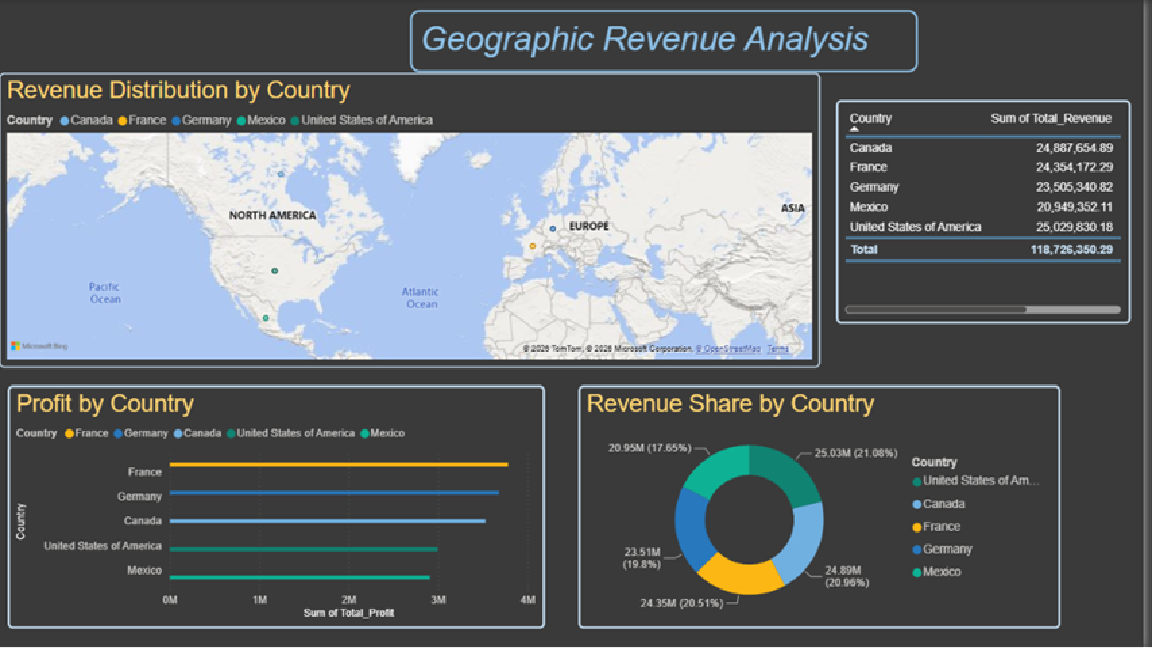

The dashboard page shown, as its layout file describes it:
{"tool":"powerbi","page":{"name":"Geographic Analysis","canvas":[1280,720],"ordinal":1},"visuals":[{"type":"map","title":"Revenue Distribution by Country","fields":{"Category":["revenue_by_country.Country"],"Series":["revenue_by_country.Country"]},"box":[0,80.8,918.1,328.2],"z":0},{"type":"tableEx","fields":{"Values":["revenue_by_country.Country","Sum(revenue_by_country.Total_Revenue)","Sum(revenue_by_country.Profit_Margin_Pct)"]},"box":[936.2,111,329.4,248.5],"z":1000},{"type":"clusteredBarChart","title":"Profit by Country","fields":{"Category":["revenue_by_country.Country"],"Y":["Sum(revenue_by_country.Total_Profit)"],"Series":["revenue_by_country.Country"]},"box":[9.7,428.3,600.8,270.2],"z":2000},{"type":"textbox","box":[459.7,10.9,568.2,70],"z":3000},{"type":"donutChart","title":"Revenue Share by Country","fields":{"Y":["Sum(revenue_by_country.Total_Revenue)"],"Category":["revenue_by_country.Country"]},"box":[647.9,428.3,539.3,270.2],"z":4000}]}

Visuals, with their boxes in screenshot pixels (x1, y1, x2, y2), scaled from the page's 1280x720 canvas onto the 1152x648 screenshot:
"Revenue Distribution by Country" map: bbox=[0, 73, 826, 368]
tableEx - revenue_by_country.Country x Sum(revenue_by_country.Total_Revenue): bbox=[843, 100, 1139, 324]
"Profit by Country" clusteredBarChart: bbox=[9, 385, 549, 629]
textbox: bbox=[414, 10, 925, 73]
"Revenue Share by Country" donutChart: bbox=[583, 385, 1068, 629]
